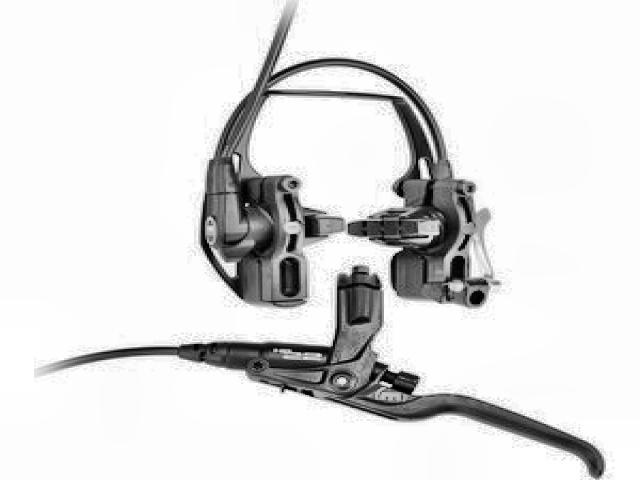rim_brake: (193, 51, 499, 312)
